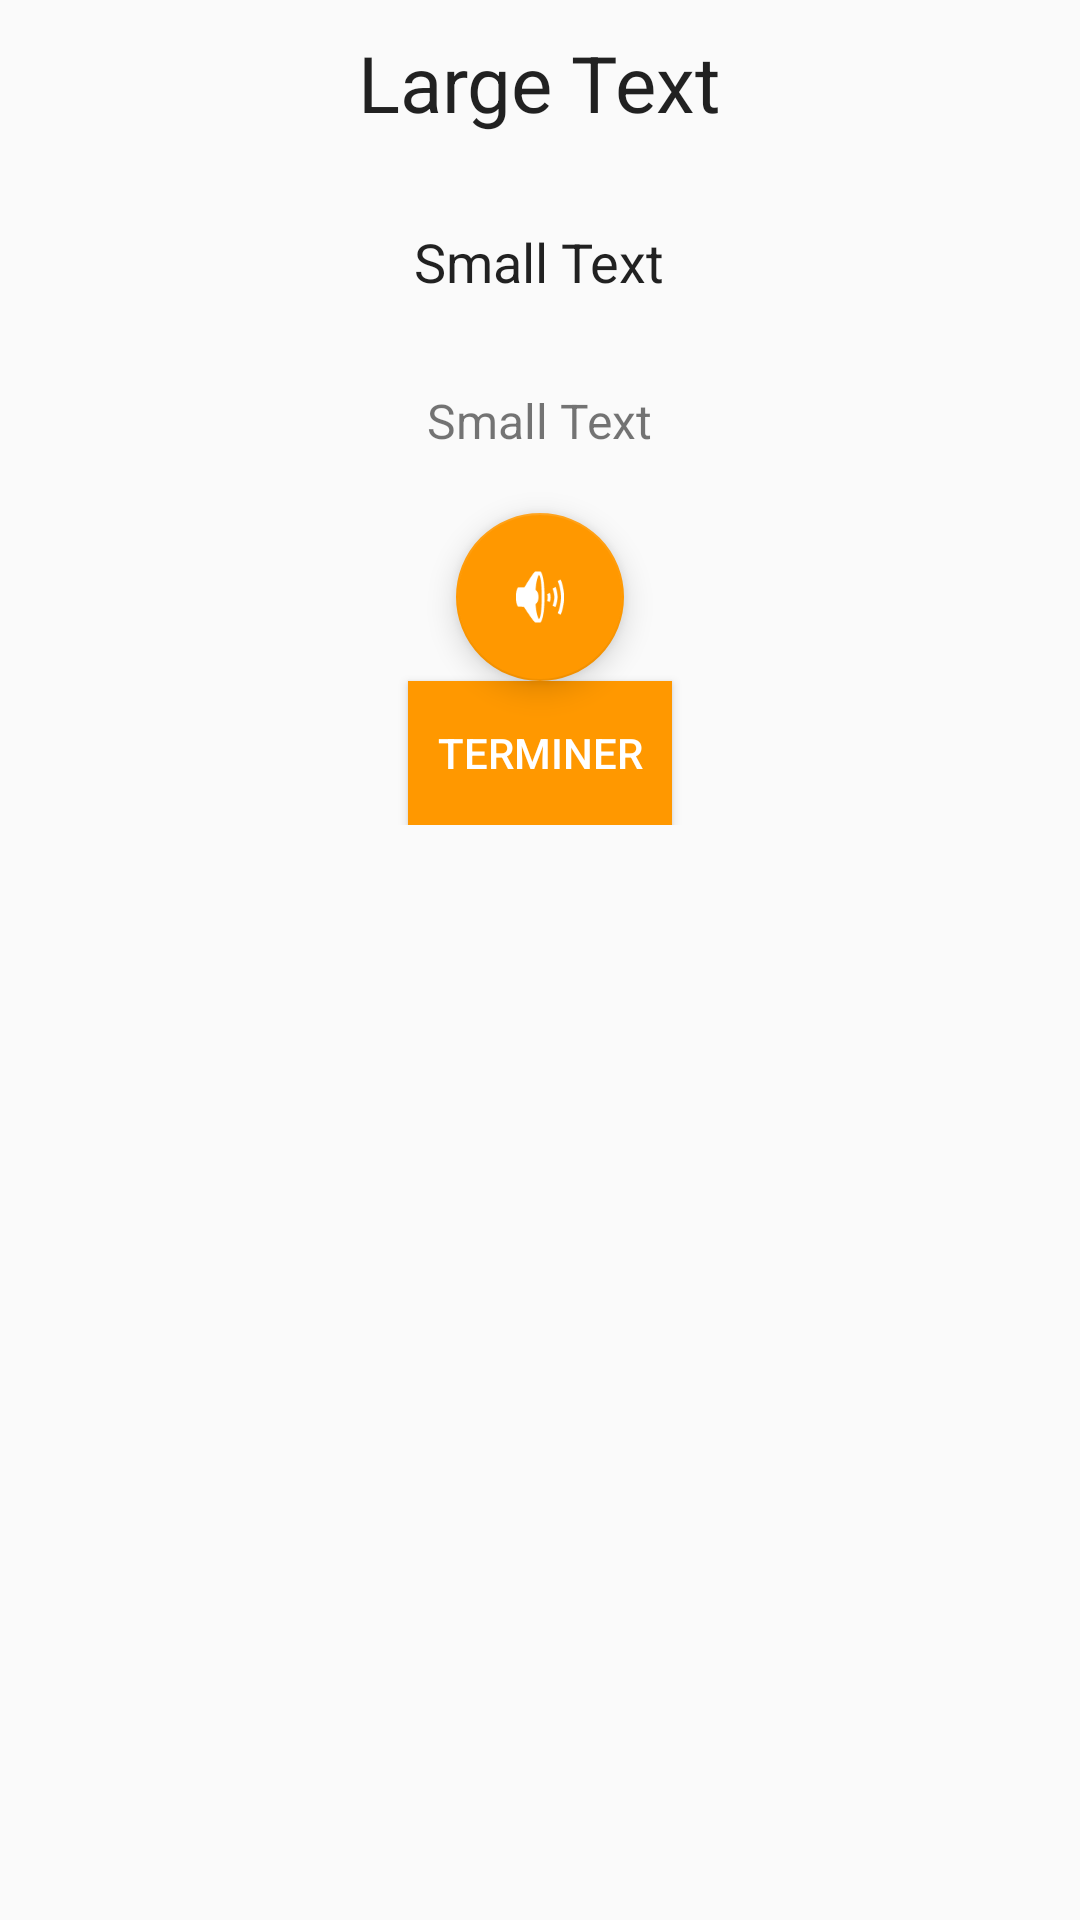

Named icons in this screenshot (1080w x 1920h) and their bounding boxes, box=[x1, y1, x2, y2]:
lock silent mode off: box=[456, 513, 624, 681]
